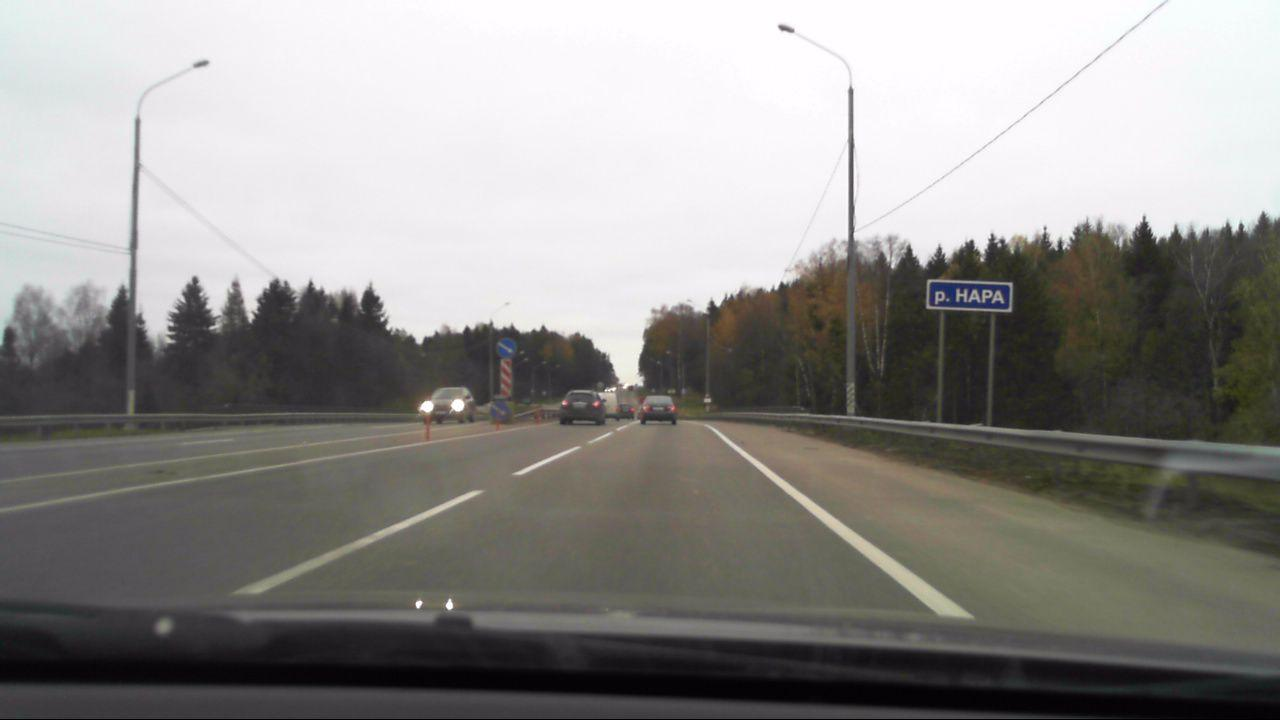4_2_1: (495, 335, 518, 360), (490, 399, 510, 423)
6_11: (927, 278, 1014, 314)
8_22_1: (499, 358, 513, 398)
